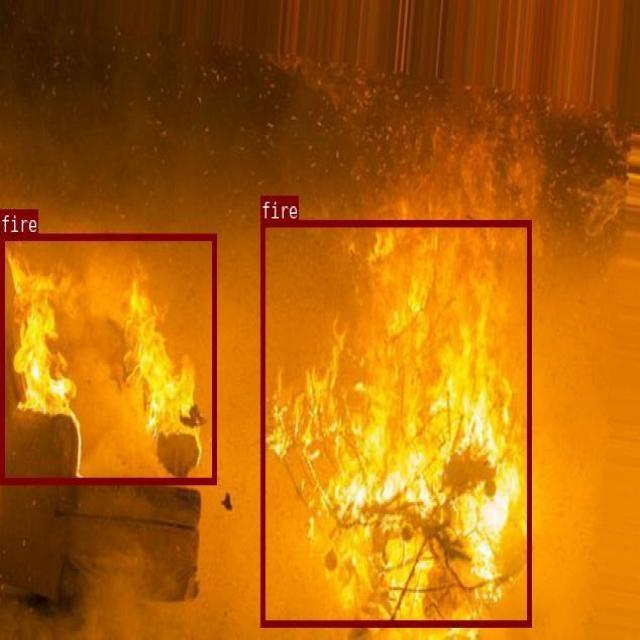fire: (260, 219, 531, 625), (0, 232, 215, 482)
